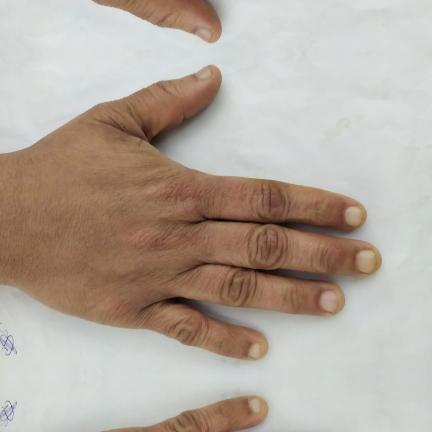Nail: (344, 205, 367, 228), (319, 289, 341, 313), (356, 250, 376, 273), (195, 66, 212, 80), (195, 28, 212, 42), (250, 343, 260, 358), (250, 398, 260, 413)
